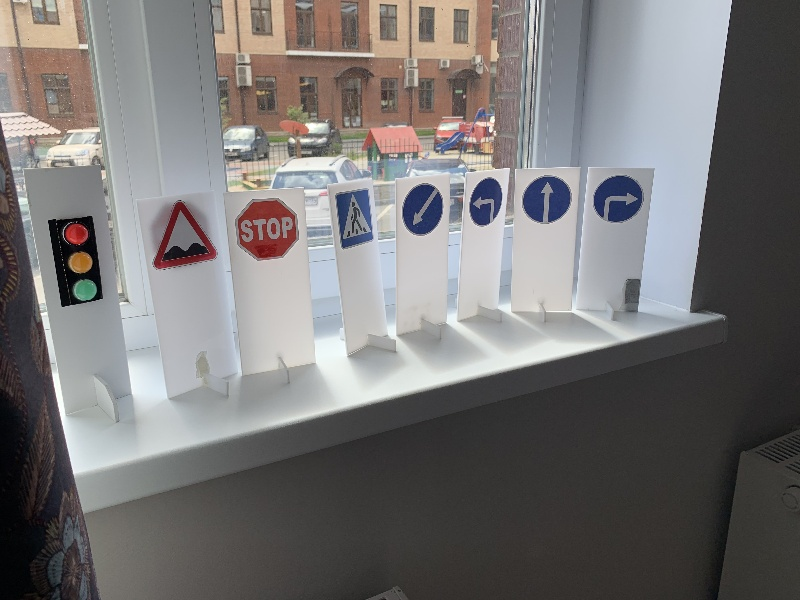Left: (468, 177, 500, 226)
Nerov: (153, 199, 218, 270)
Right: (588, 176, 644, 223)
Stop: (234, 197, 300, 260)
forw: (522, 173, 573, 223)
pesh: (334, 189, 375, 248)
prep: (401, 182, 443, 236)
